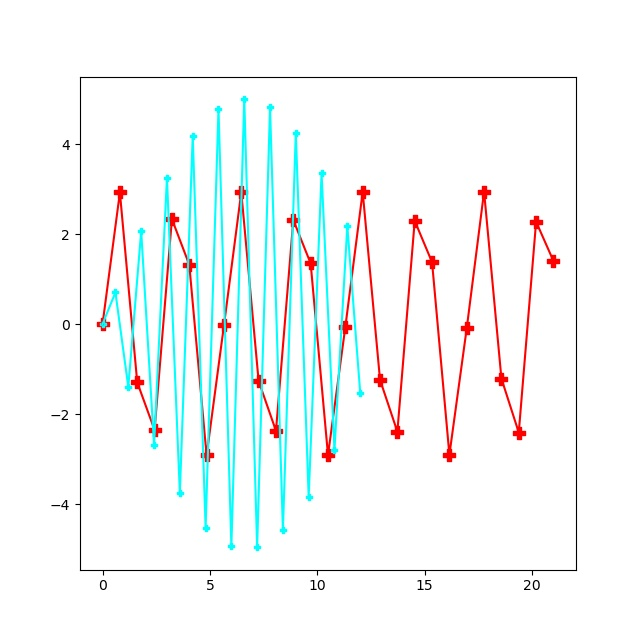plus: (97, 318, 110, 331), (114, 186, 127, 199), (131, 376, 144, 389), (149, 424, 162, 437), (166, 213, 179, 226), (183, 259, 196, 272), (201, 449, 214, 462), (218, 319, 231, 332), (235, 186, 248, 199), (253, 375, 266, 388), (270, 425, 283, 438), (287, 214, 300, 227), (305, 257, 318, 270), (322, 449, 335, 462), (339, 321, 352, 334), (357, 186, 370, 199), (374, 374, 387, 387), (391, 426, 404, 439), (409, 215, 422, 228), (426, 256, 439, 269), (443, 449, 456, 462), (461, 322, 474, 335), (478, 186, 491, 199), (495, 373, 508, 386), (513, 427, 526, 440), (530, 216, 543, 229), (547, 255, 560, 268), (99, 320, 108, 329), (111, 288, 120, 297), (124, 383, 133, 392), (137, 227, 146, 236), (150, 441, 159, 450), (163, 174, 172, 183), (176, 489, 185, 498), (189, 132, 198, 141), (202, 524, 211, 533), (214, 105, 223, 114), (227, 542, 236, 551), (240, 95, 249, 104), (253, 543, 262, 552), (266, 103, 275, 112), (279, 526, 288, 535), (292, 129, 301, 138), (305, 493, 314, 502), (318, 169, 327, 178), (330, 446, 339, 455), (343, 222, 352, 231), (356, 389, 365, 398)
